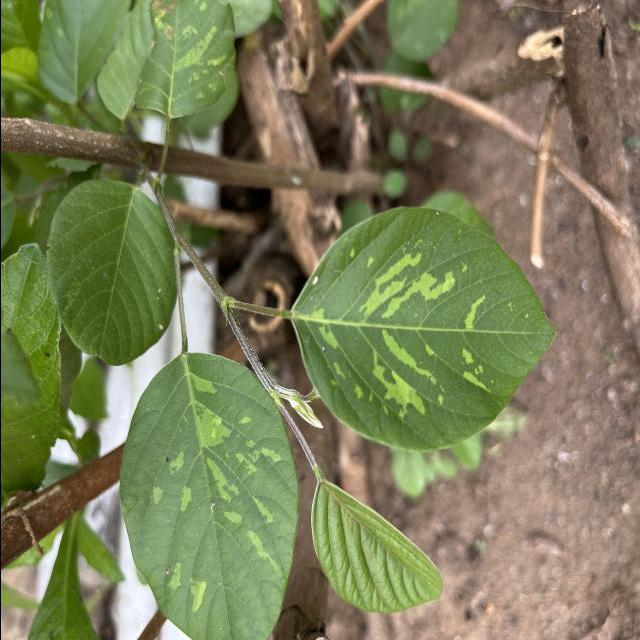Desmodium gangeticum: (286, 199, 559, 454), (111, 347, 302, 640)
